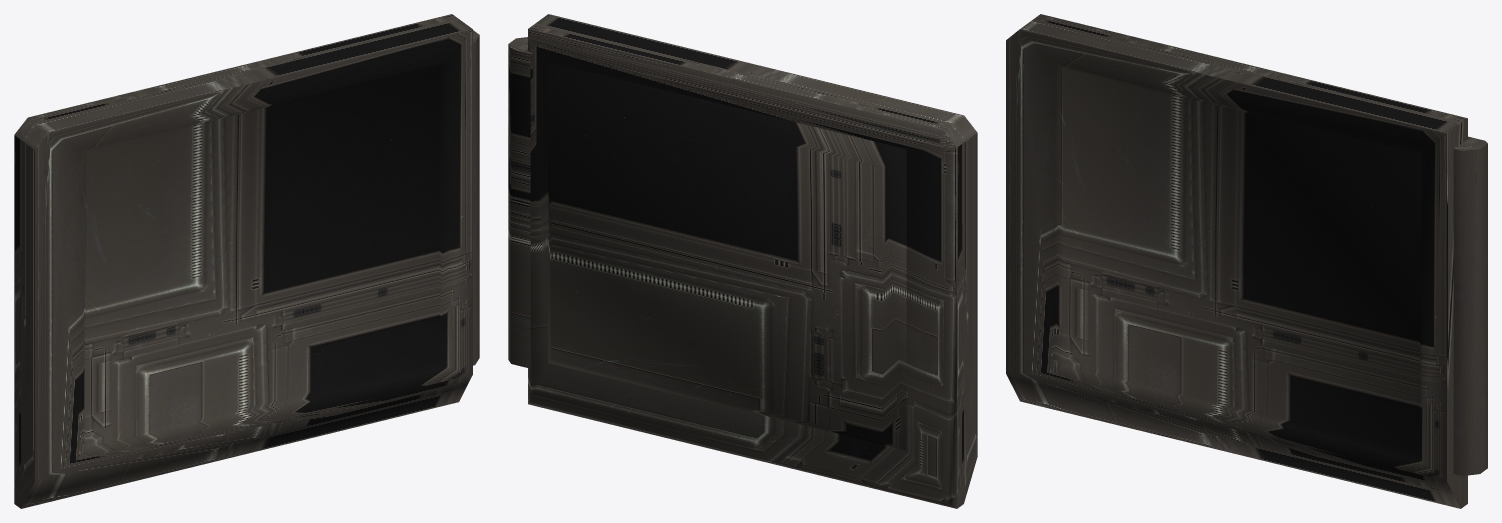
Rendered from computer_panel_medium.dae.
3 views of the same model, side by side, from view 1: azimuth 30°, elevation 25°; view 2: azimuth 150°, elevation 25°; view 3: azimuth 330°, elevation 25° (orthographic). The views are drawn at different scales.
Visible parts, largest first — view 1: computer_panel_medium; view 2: computer_panel_medium; view 3: computer_panel_medium.
Part boxes in pixels (x1=…): computer_panel_medium: x1=14, y1=14, x2=479, y2=508; computer_panel_medium: x1=508, y1=14, x2=977, y2=508; computer_panel_medium: x1=1006, y1=14, x2=1487, y2=508.
Bounding box in the file's own units: 1.02 × 0.8123 × 0.1336.
